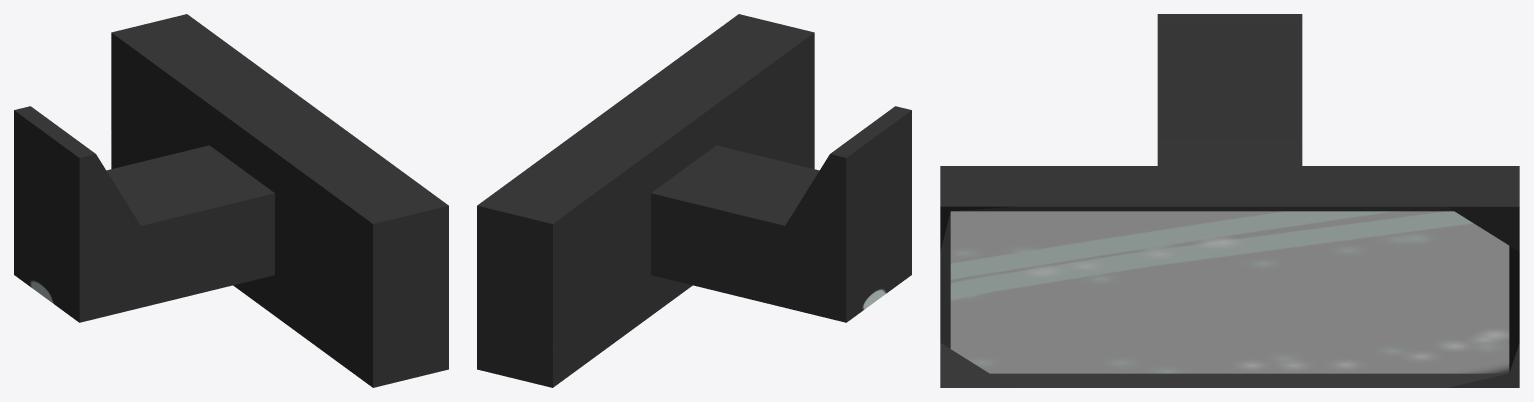
File: voorruitspiegel.fbx
3 renders of one model, left to right at view 1: azimuth 30°, elevation 25°; view 2: azimuth 150°, elevation 25°; view 3: azimuth 270°, elevation 25°, orthographic. The views are drawn at different scales.
Parts seen in each view (by area): view 1: Cube; view 2: Cube; view 3: Cube.
Boxes of the visible parts, x1=… form: Cube: x1=14, y1=14, x2=448, y2=387; Cube: x1=477, y1=14, x2=911, y2=387; Cube: x1=940, y1=14, x2=1519, y2=387.
Size of the model in its own units: 26.7 by 19.36 by 44.65.
1 material, 1 textured.
